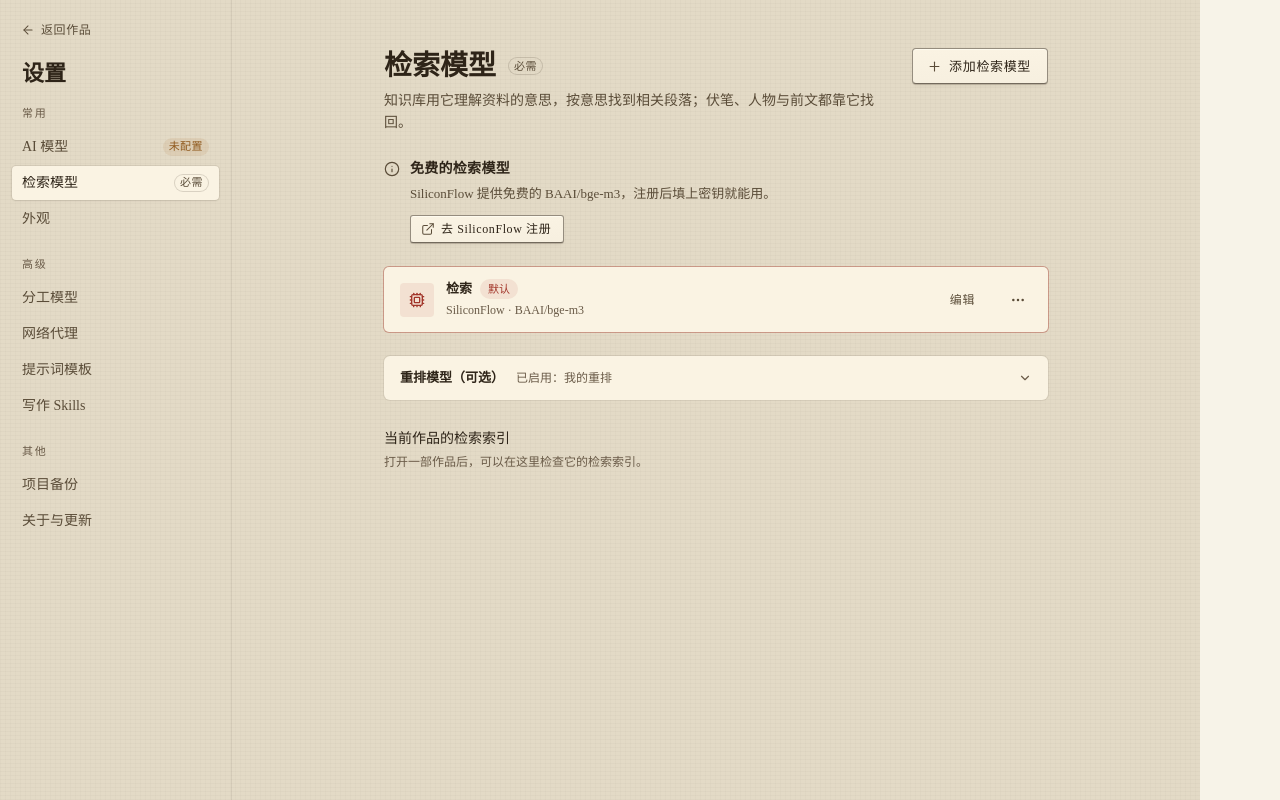
Scenario: 检索模型页的重排分区 › 展开后写一句隐私说明，文案不含端点和 Key
This screenshot has width=1280, height=800.
Click the button "重排模型（可选） 已启用：我的重排" at (452, 377), box 384,356 -> 1048,400
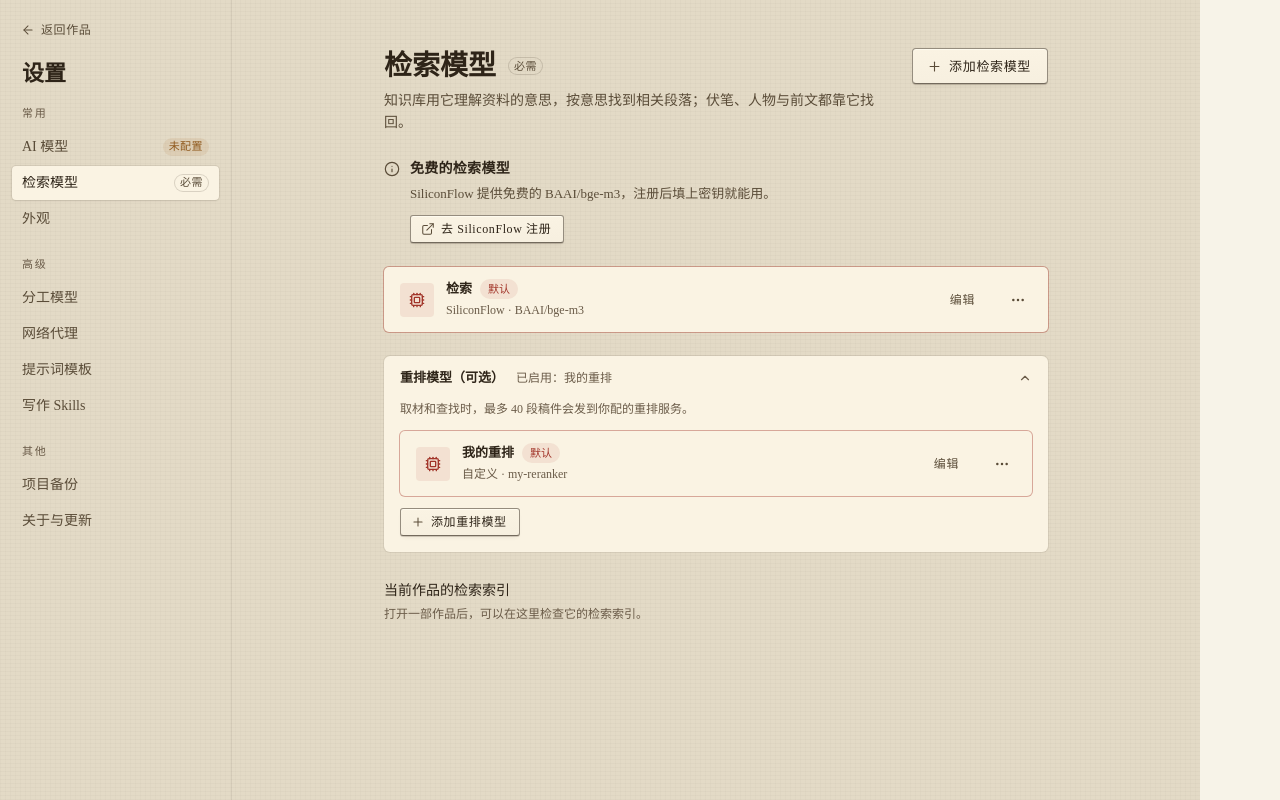
Expected: the element named "重排模型" shows "取材和查找时，最多 40 段稿件会发到你配的重排服务。", 400,402 -> 694,416
